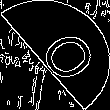O_SW: (18, 22, 92, 88)
